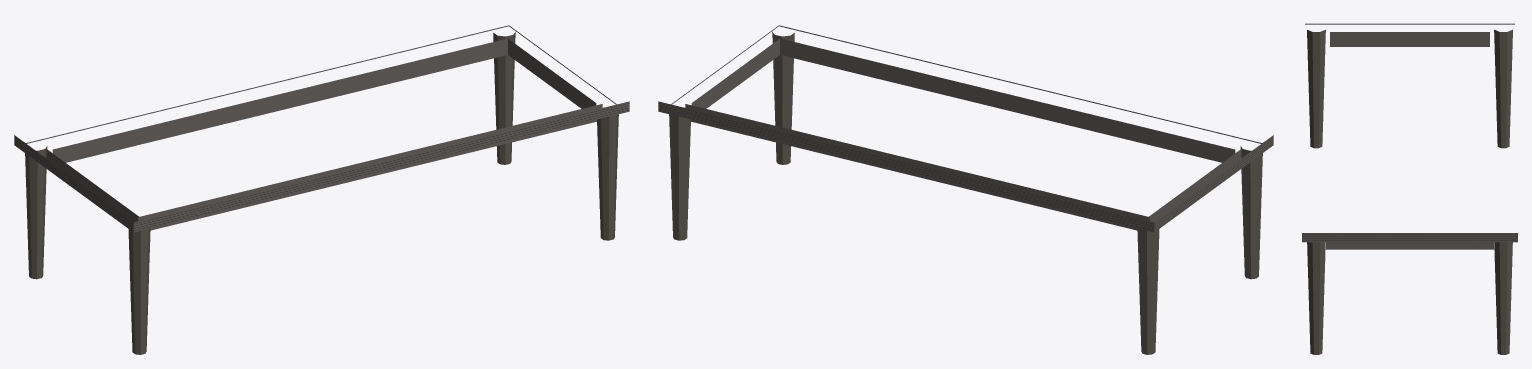
File: kd_stage_135c43_4_38.glb
3 views of the same model, side by side, from view 1: azimuth 30°, elevation 25°; view 2: azimuth 150°, elevation 25°; view 3: azimuth 270°, elevation 25° (orthographic). The views are drawn at different scales.
Parts seen in each view (by area): view 1: kd_stage_135c43_4_38; view 2: kd_stage_135c43_4_38; view 3: kd_stage_135c43_4_38.
Part boxes in pixels (x1=…): kd_stage_135c43_4_38: x1=14, y1=25, x2=629, y2=354; kd_stage_135c43_4_38: x1=658, y1=25, x2=1273, y2=354; kd_stage_135c43_4_38: x1=1302, y1=23, x2=1517, y2=354.
Bounding box in the file's own units: 2.52 × 0.6733 × 1.05.
Materials: 1 (1 with a texture image).
